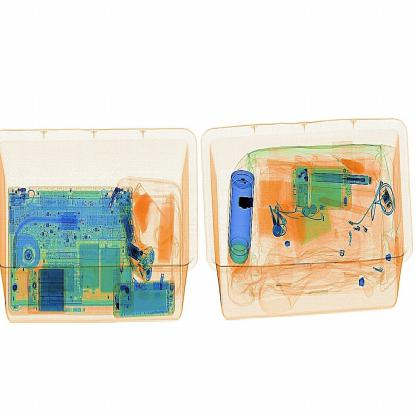scissors: (234, 185, 258, 221)
